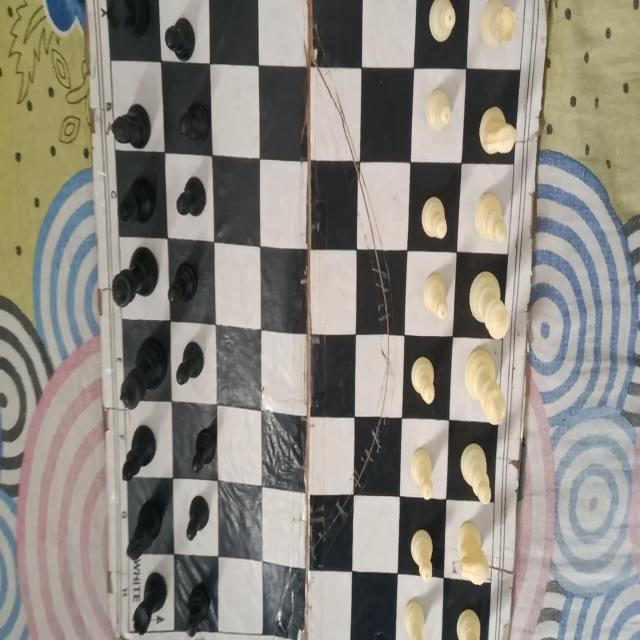corners: (111, 618, 125, 640)
